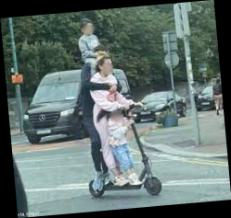multiple: (73, 12, 165, 202)
